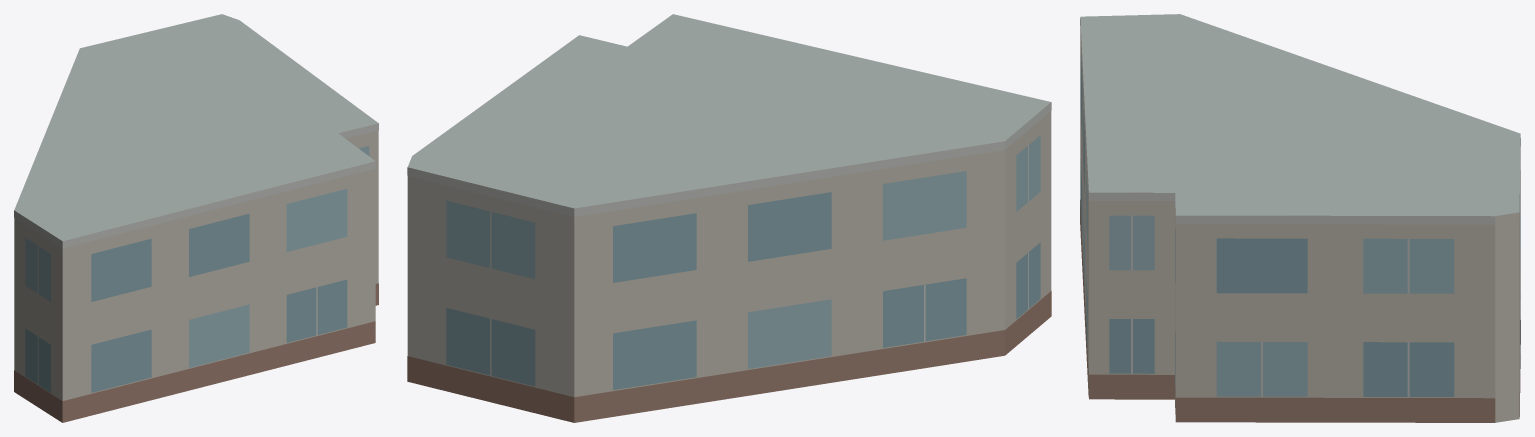
File: survey-upis-32913956.glb
3 renders of one model, left to right at view 1: azimuth 30°, elevation 25°; view 2: azimuth 150°, elevation 25°; view 3: azimuth 270°, elevation 25°, orthographic. The views are drawn at different scales.
Visible parts, largest first — view 1: survey-upis-32913956.tmp; view 2: survey-upis-32913956.tmp; view 3: survey-upis-32913956.tmp.
Part boxes in pixels (x1,y1,x2,y2): survey-upis-32913956.tmp: (14, 14, 378, 422); survey-upis-32913956.tmp: (407, 14, 1051, 422); survey-upis-32913956.tmp: (1080, 14, 1520, 422).
Bounding box in the file's own units: 12.8 × 6.1 × 11.79.
